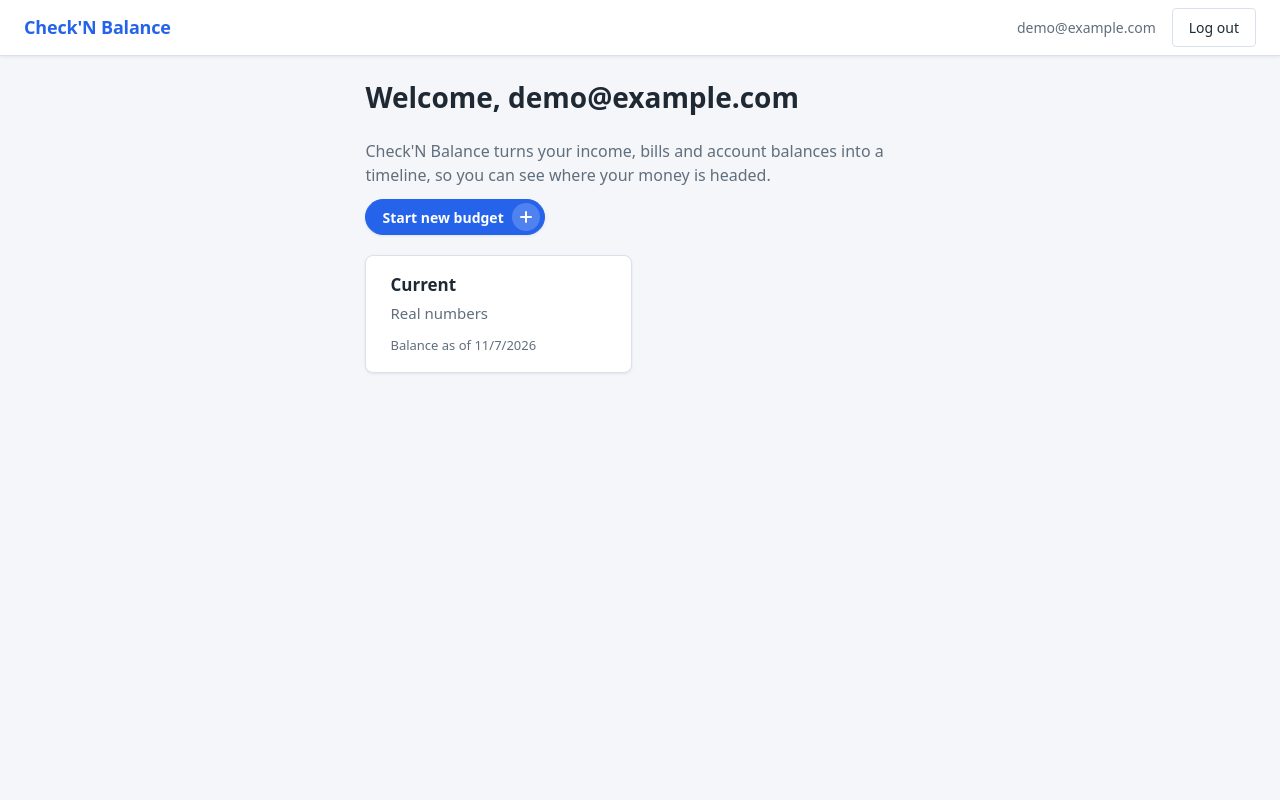
Test: the "+" button › the new budget shows up on Home when you go back (Home refetches)
Later steps or results of the test are not shown.
Click the button "Start new budget": (455, 217) 365,199 -> 545,235
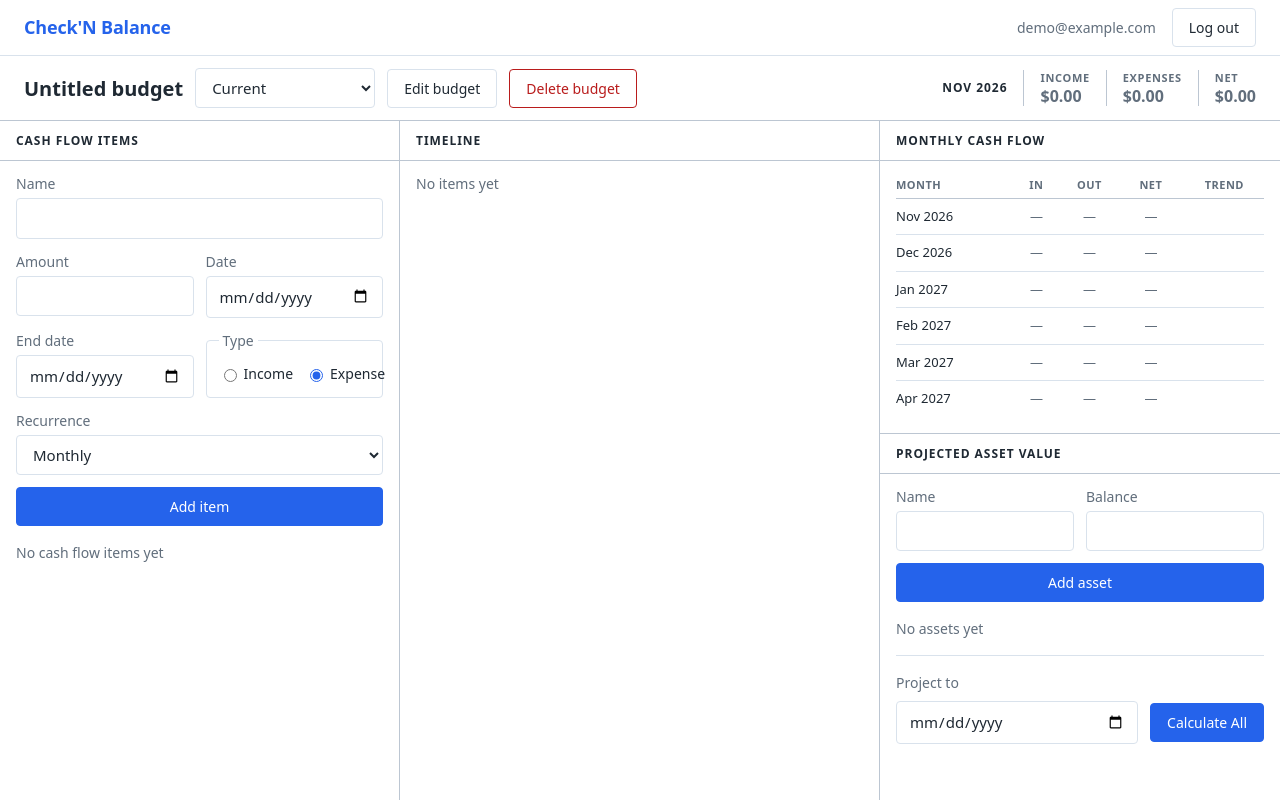
Check: the heading "Untitled budget" is shown, box 24,76 -> 183,100
